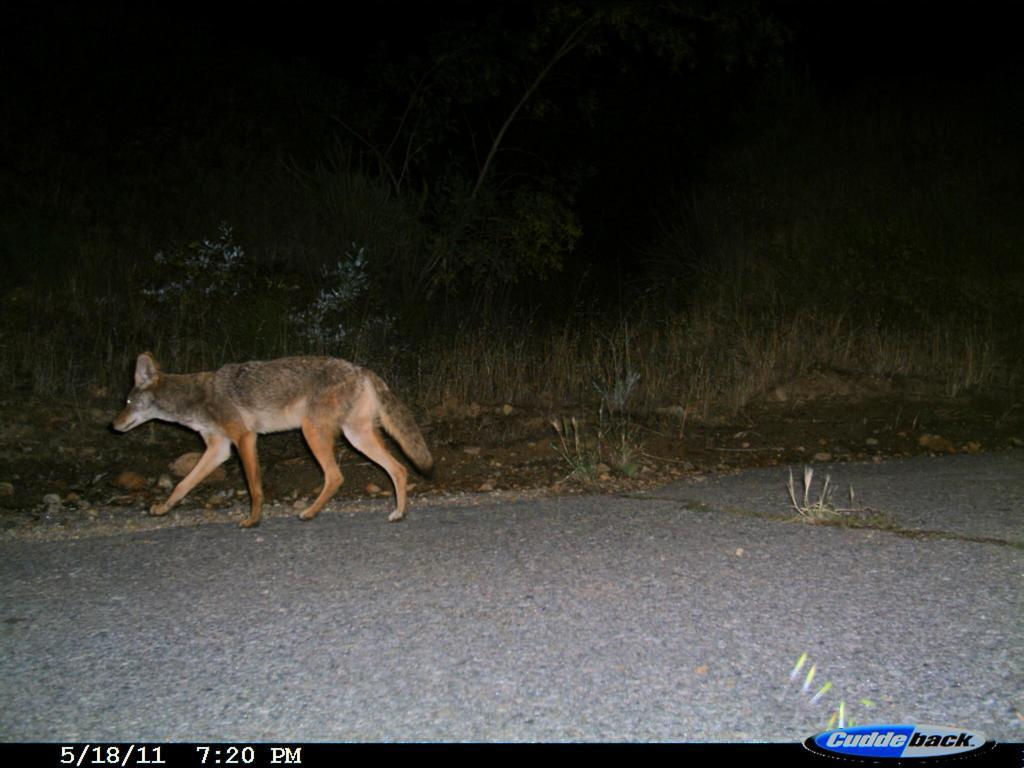coyote: (112, 337, 434, 534)
